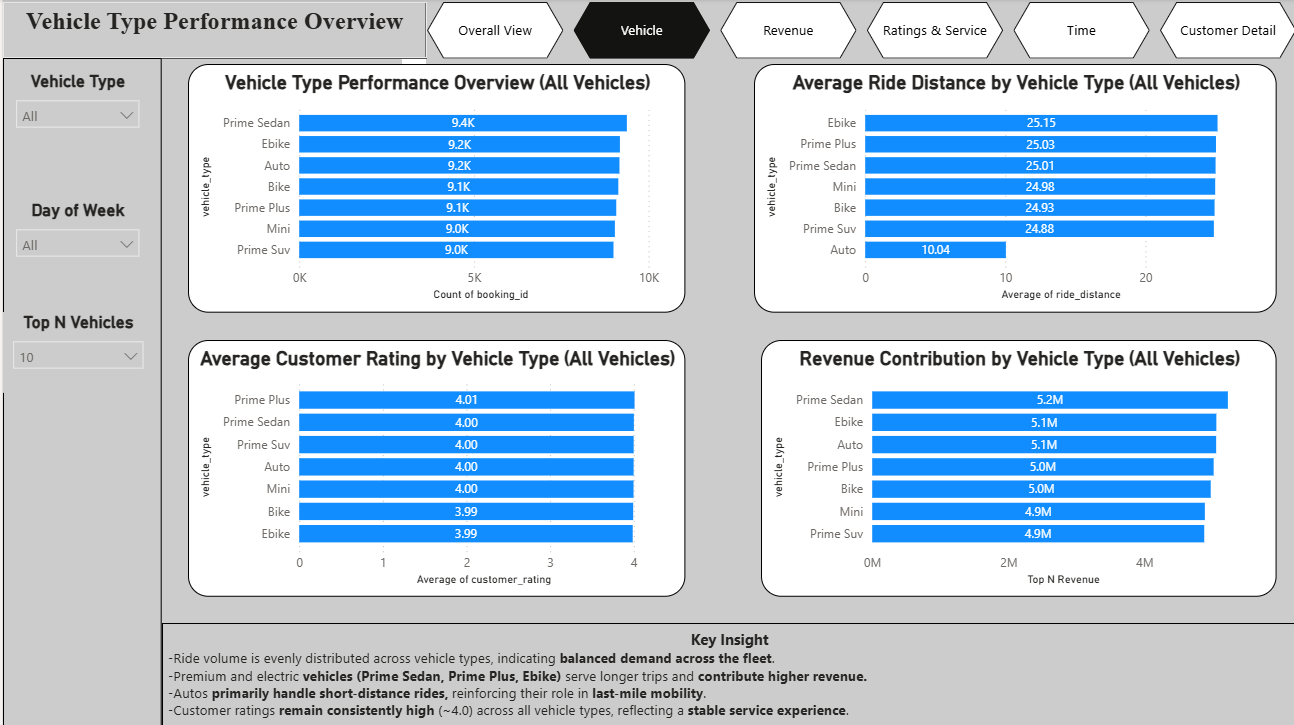

This screenshot's page, from the dashboard's own definition file:
{"tool":"powerbi","page":{"name":"Vehicle ","canvas":[1280,720],"ordinal":1},"visuals":[{"type":"textbox","box":[0,2.6,419.2,56.1],"z":0},{"type":"clusteredBarChart","fields":{"Category":["ola_rides_cleaned.vehicle_type"],"Y":["CountNonNull(ola_rides_cleaned.booking_id)"]},"box":[182.9,64.7,491.6,245.8],"z":1000},{"type":"clusteredBarChart","fields":{"Category":["ola_rides_cleaned.vehicle_type"],"Y":["Avg(ola_rides_cleaned.ride_distance)"]},"box":[742.6,64.7,516.7,245.8],"z":2000},{"type":"barChart","fields":{"Y":["Avg(ola_rides_cleaned.customer_rating)"],"Category":["ola_rides_cleaned.vehicle_type"]},"box":[182.9,337.3,491.6,254.4],"z":3000},{"type":"clusteredBarChart","fields":{"Category":["ola_rides_cleaned.vehicle_type"],"Y":["ola_rides_cleaned.Top N Revenue"]},"box":[749.5,337.3,509.8,254.4],"z":4000},{"type":"textbox","box":[157,617.6,1123,102.6],"z":5000},{"type":"shape","box":[0,58.7,157,661.6],"z":6000},{"type":"slicer","title":"Day of Week","fields":{"Values":["ola_rides_cleaned.ride_day"]},"box":[3.5,198.4,142.3,84.5],"z":7000},{"type":"slicer","title":"Payment Method","fields":{"Values":["ola_rides_cleaned.payment_method"]},"box":[6.9,73.3,142.3,84.5],"z":8000},{"type":"pageNavigator","box":[419.2,2.6,860.8,56.1],"z":9000},{"type":"slicer","title":"Vehicle Type","fields":{"Values":["ola_rides_cleaned.vehicle_type"]},"box":[3.5,71.6,142.3,85.4],"z":10000},{"type":"slicer","title":"Top N Vehicles","fields":{"Values":["TopN.Value"]},"box":[0,309.8,149.4,80.2],"z":10001}]}

Visuals, with their boxes in screenshot pixels (x1, y1, x2, y2), scaled from the page's 1280x720 canvas onto the 1294x725 screenshot:
textbox: [left=0, top=3, right=424, bottom=59]
clusteredBarChart - ola_rides_cleaned.vehicle_type x CountNonNull(ola_rides_cleaned.booking_id): [left=185, top=65, right=682, bottom=313]
clusteredBarChart - ola_rides_cleaned.vehicle_type x Avg(ola_rides_cleaned.ride_distance): [left=751, top=65, right=1273, bottom=313]
barChart - Avg(ola_rides_cleaned.customer_rating) x ola_rides_cleaned.vehicle_type: [left=185, top=340, right=682, bottom=596]
clusteredBarChart - ola_rides_cleaned.vehicle_type x ola_rides_cleaned.Top N Revenue: [left=758, top=340, right=1273, bottom=596]
textbox: [left=159, top=622, right=1293, bottom=724]
shape: [left=0, top=59, right=159, bottom=724]
"Day of Week" slicer: [left=4, top=200, right=147, bottom=285]
"Payment Method" slicer: [left=7, top=74, right=151, bottom=159]
pageNavigator: [left=424, top=3, right=1293, bottom=59]
"Vehicle Type" slicer: [left=4, top=72, right=147, bottom=158]
"Top N Vehicles" slicer: [left=0, top=312, right=151, bottom=393]
